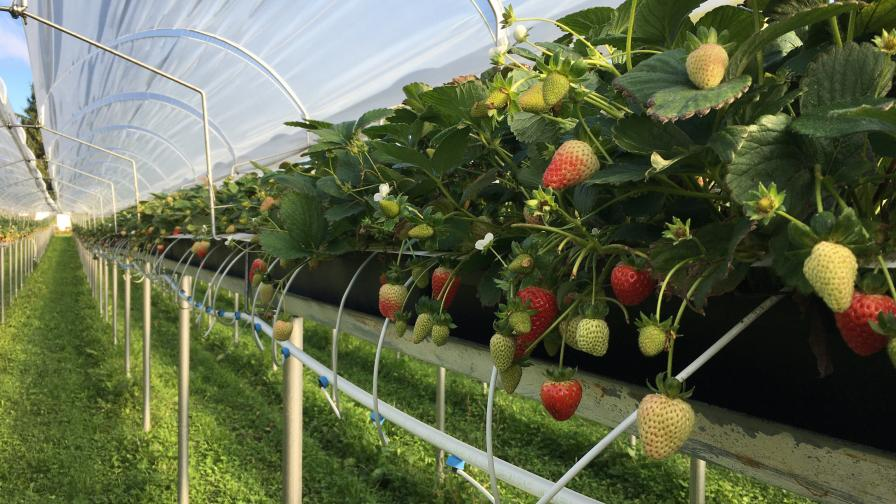green_strawberry: (636, 394, 702, 455), (803, 238, 858, 309), (684, 42, 727, 87), (574, 321, 614, 358), (493, 358, 526, 396), (540, 71, 571, 108), (503, 305, 537, 336), (634, 324, 668, 355), (490, 332, 514, 371), (519, 82, 548, 112), (506, 253, 536, 277), (415, 311, 433, 346), (430, 319, 452, 347), (274, 313, 294, 343), (377, 196, 401, 220), (486, 88, 509, 110), (411, 265, 430, 290), (258, 281, 274, 310), (393, 316, 409, 341), (409, 223, 432, 238), (191, 240, 209, 259), (251, 273, 261, 286)
red_strawberry: (841, 292, 888, 359), (544, 141, 598, 191), (609, 261, 654, 306), (538, 377, 583, 420), (520, 285, 553, 327), (432, 266, 457, 310), (380, 284, 406, 316), (252, 258, 265, 274)
